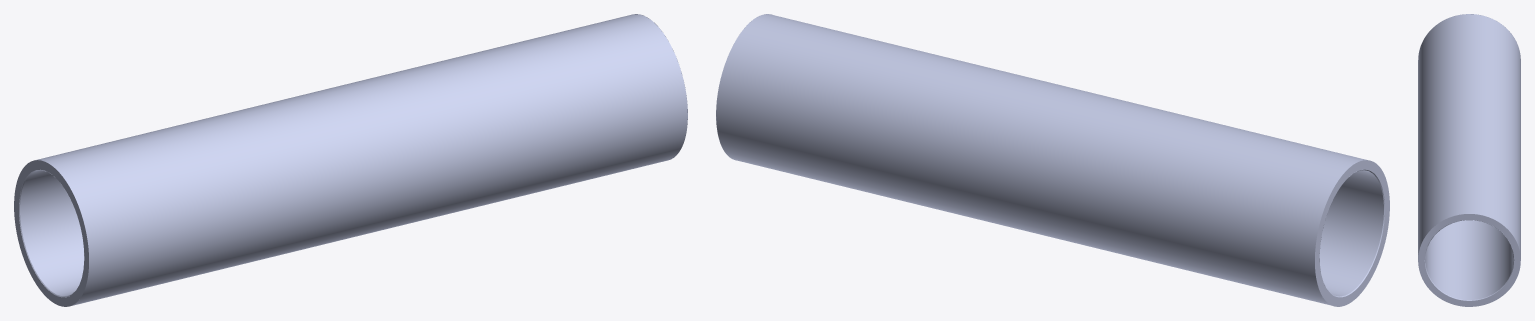
The picture shows the model from 3 angles, left to right: view 1: azimuth 30°, elevation 25°; view 2: azimuth 150°, elevation 25°; view 3: azimuth 270°, elevation 25°; orthographic projection. The views are drawn at different scales.
Visible parts, largest first — view 1: FACE (×4); view 2: FACE (×4); view 3: FACE (×7).
Part boxes in pixels (x1,y1,x2,y2): FACE (×4): [14, 14, 687, 306]; FACE (×4): [716, 14, 1389, 306]; FACE (×7): [1418, 14, 1520, 306].
Bounding box in the file's own units: 0.4601 × 0.1 × 0.1.
